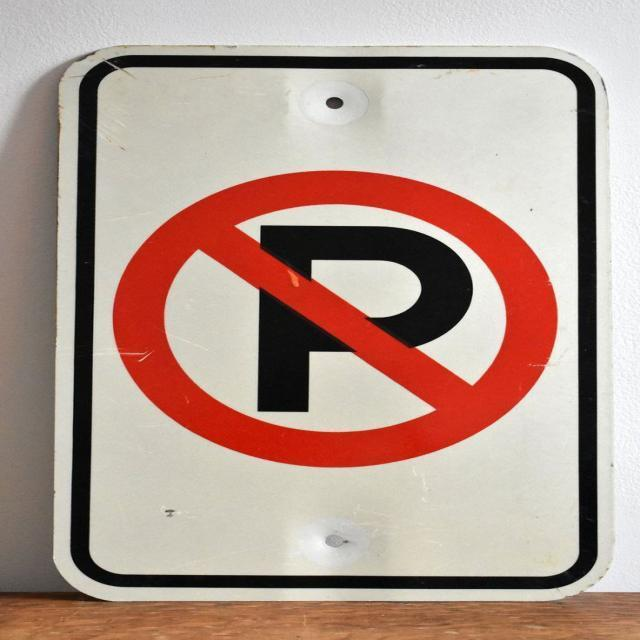no parking: (107, 167, 562, 474)
